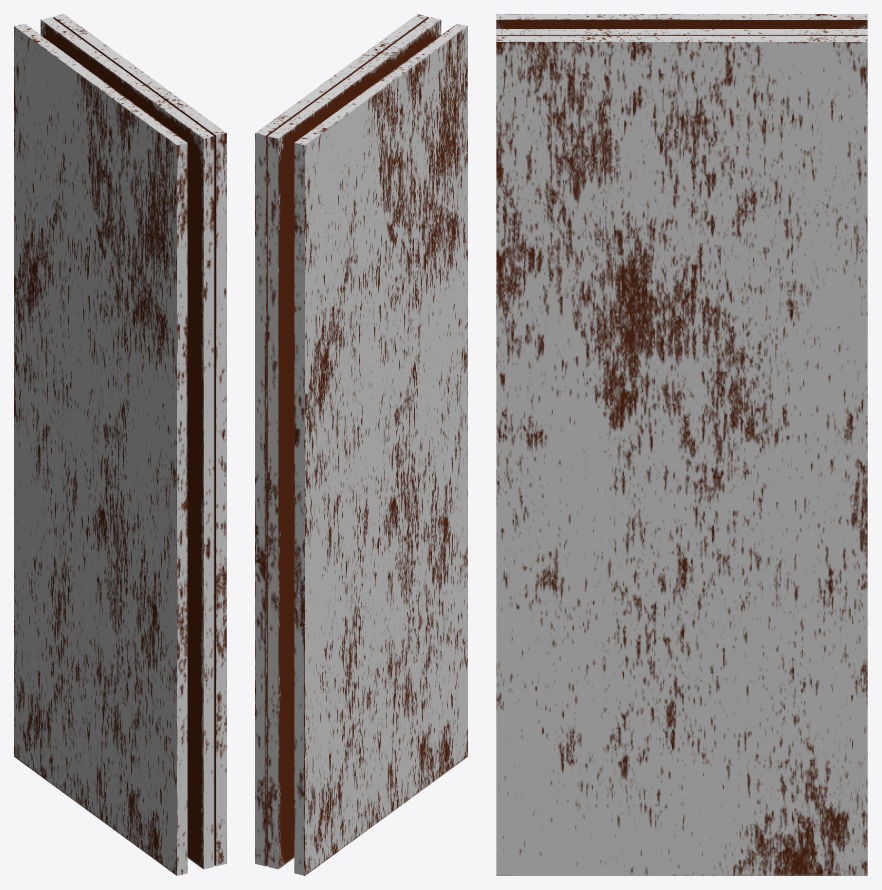
Rendered from Hallway_Elevator_Door_right_001.fbx.
3 renders of one model, left to right at view 1: azimuth 30°, elevation 25°; view 2: azimuth 150°, elevation 25°; view 3: azimuth 270°, elevation 25°, orthographic. The views are drawn at different scales.
Visible parts, largest first — view 1: Porta_Ascensore_DX; view 2: Porta_Ascensore_DX; view 3: Porta_Ascensore_DX.
Part boxes in pixels (bbox=[...]): Porta_Ascensore_DX: bbox=[14, 14, 226, 875]; Porta_Ascensore_DX: bbox=[255, 14, 467, 875]; Porta_Ascensore_DX: bbox=[496, 14, 867, 875].
Size of what is drawn, in the model's own units: 89.85 by 15.93 by 223.
